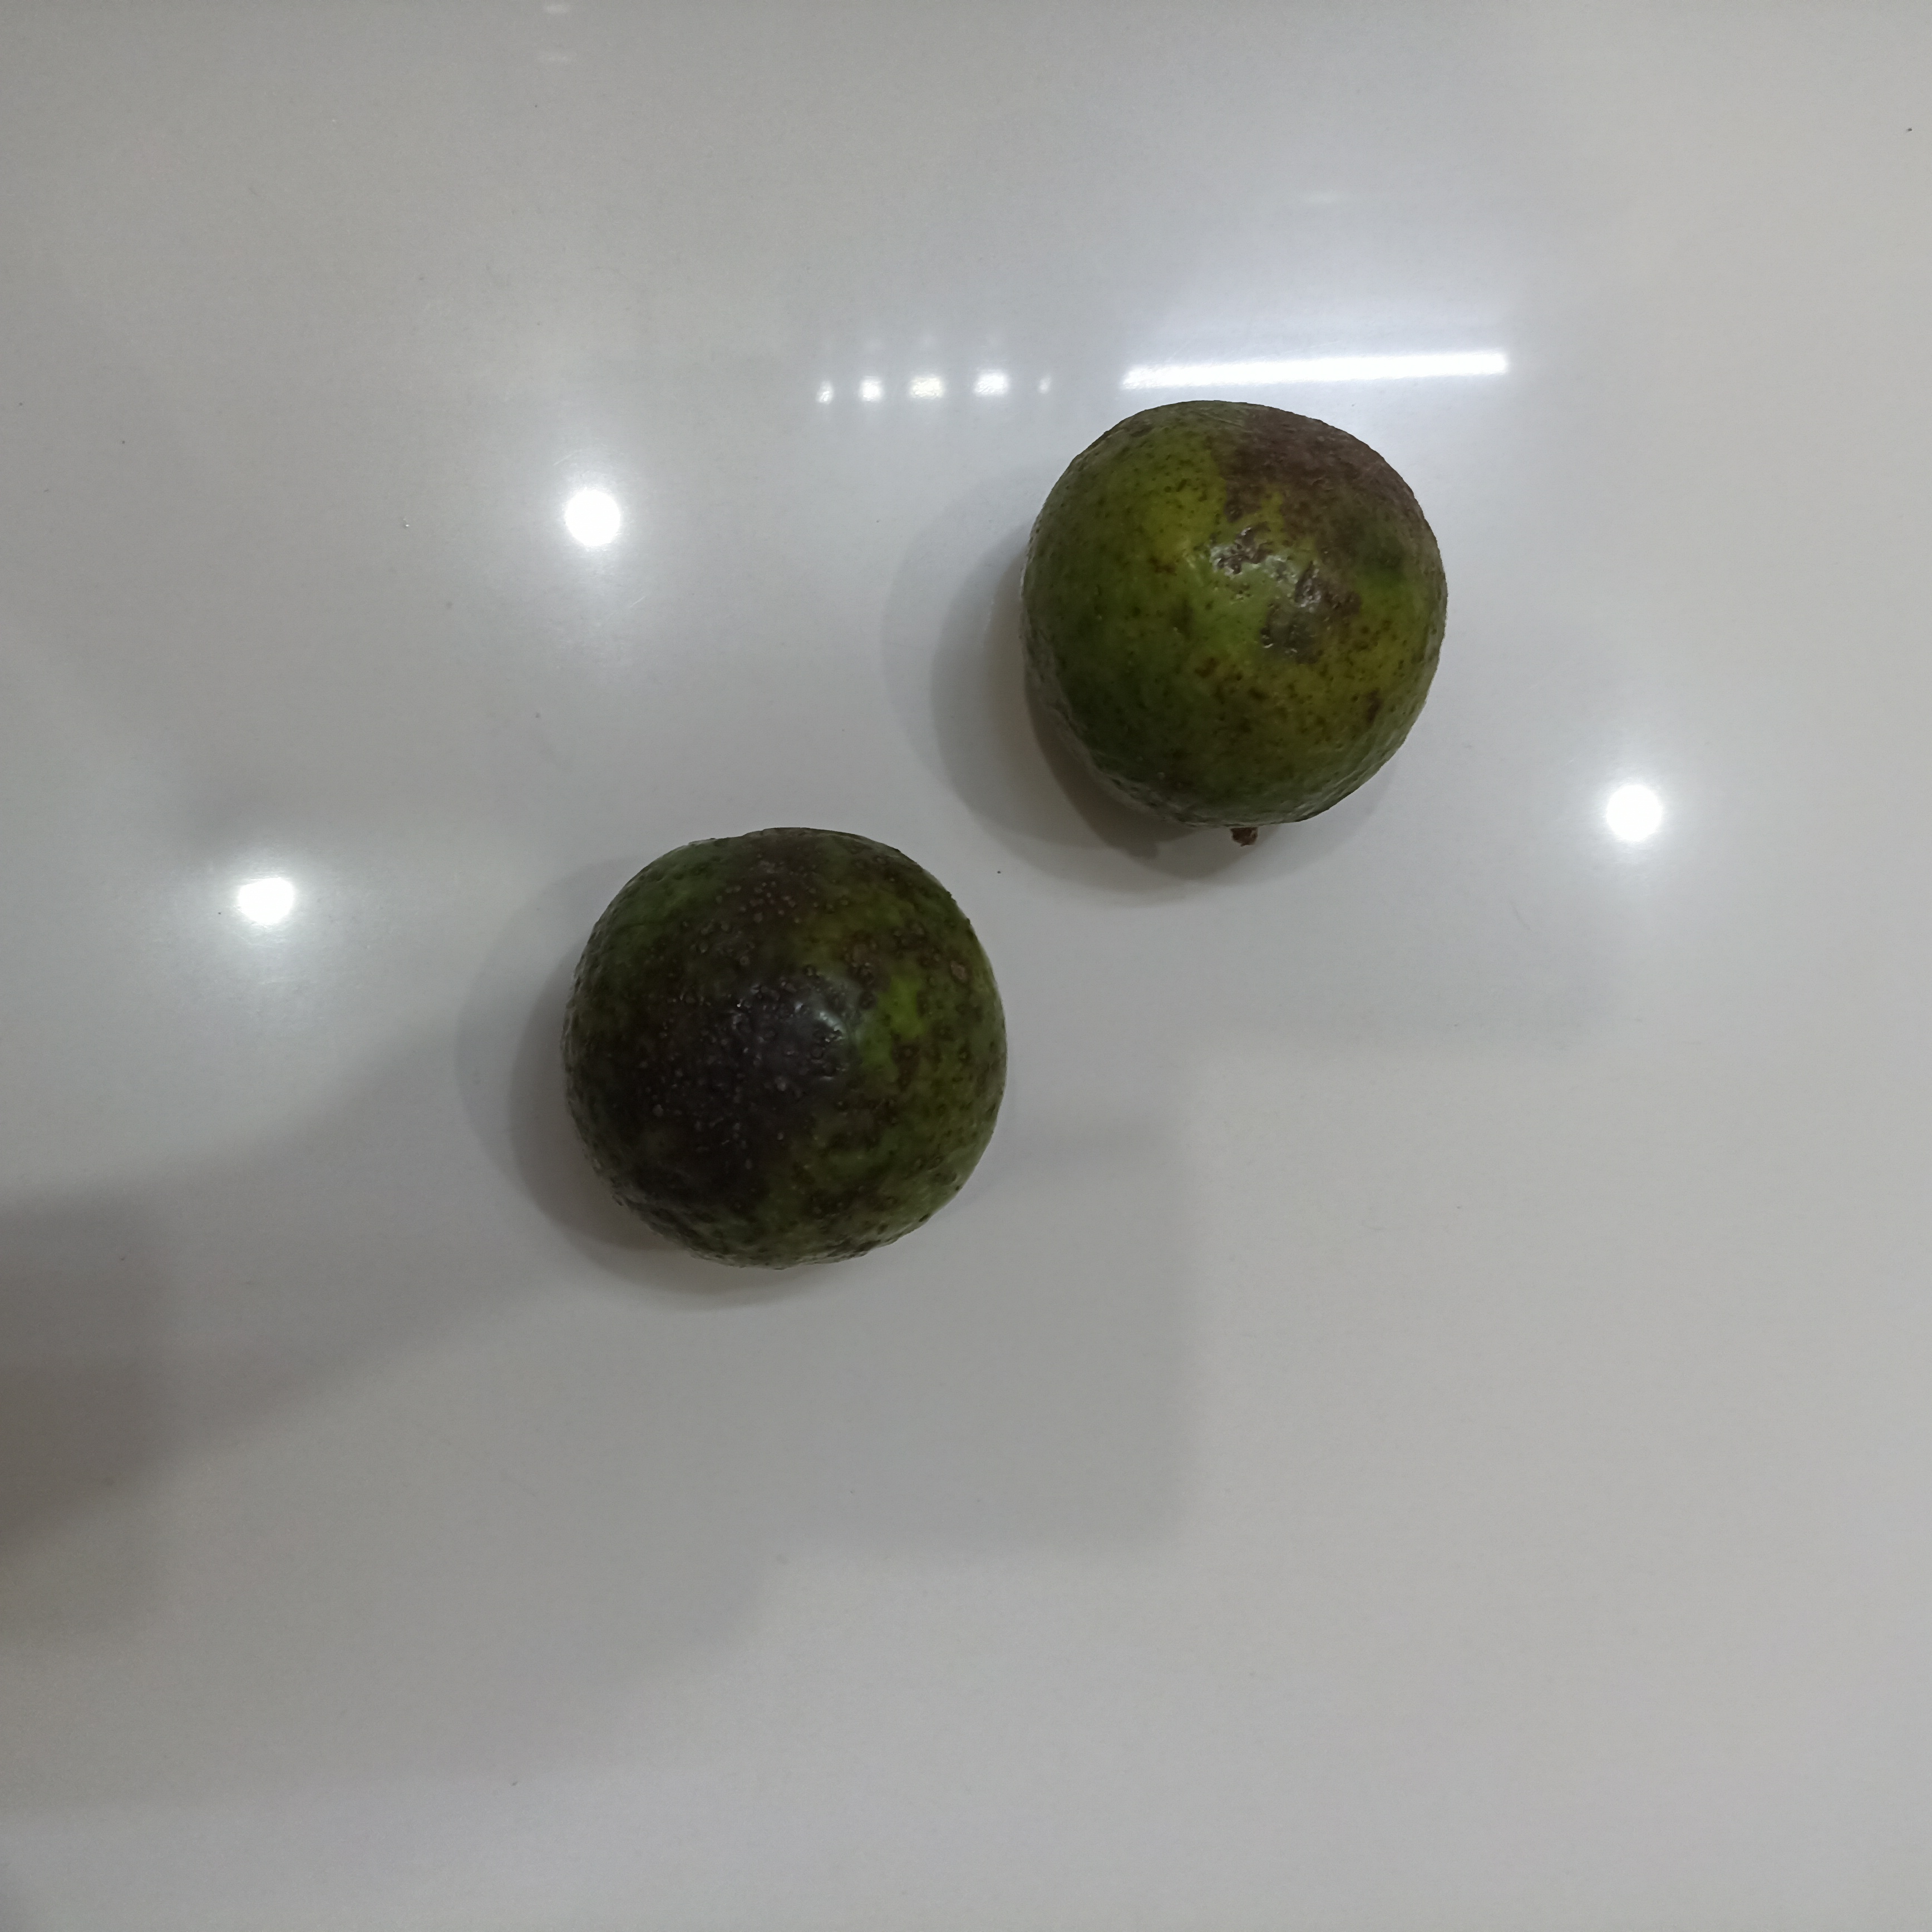Bo: (564, 824, 1008, 1283), (1016, 398, 1451, 835)
